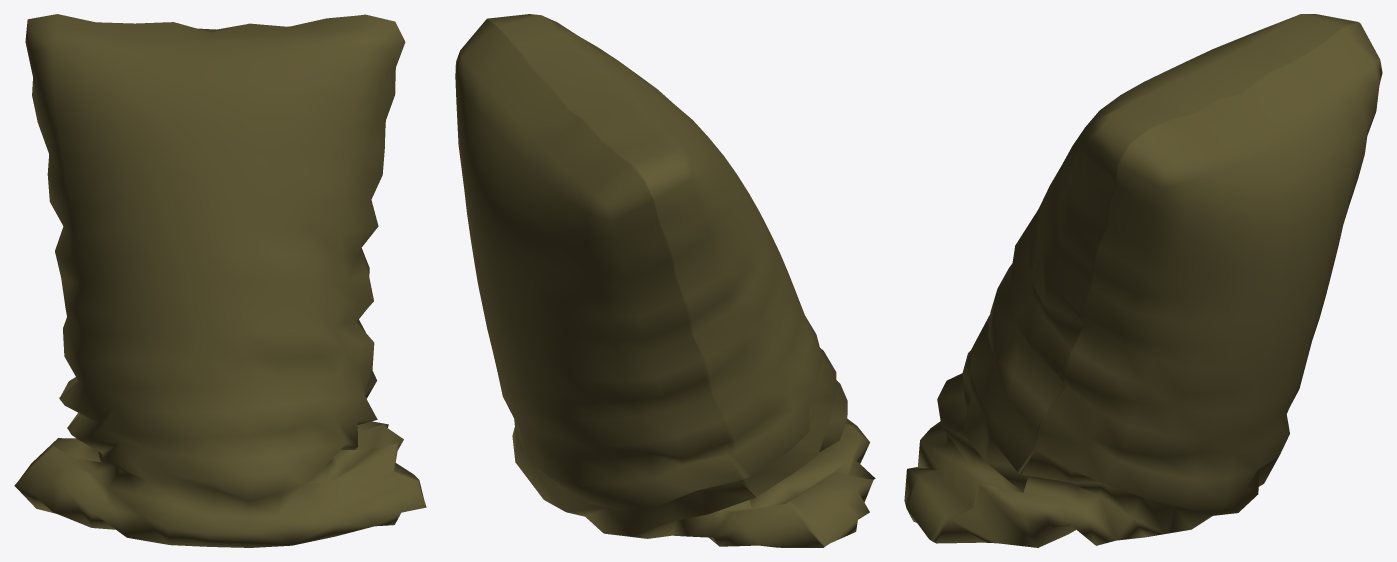
Rendered from soil.gltf.
The picture shows the model from 3 angles, left to right: view 1: azimuth 30°, elevation 25°; view 2: azimuth 150°, elevation 25°; view 3: azimuth 270°, elevation 25°; orthographic projection. The views are drawn at different scales.
Visible parts, largest first — view 1: soilBag.001; view 2: soilBag.001; view 3: soilBag.001.
Boxes of the visible parts, box(x1,y1,x2,y2) form: soilBag.001: box(14, 14, 426, 547); soilBag.001: box(455, 14, 875, 547); soilBag.001: box(904, 14, 1382, 547).
Bounding box in the file's own units: 4.54 × 4.78 × 4.7.
